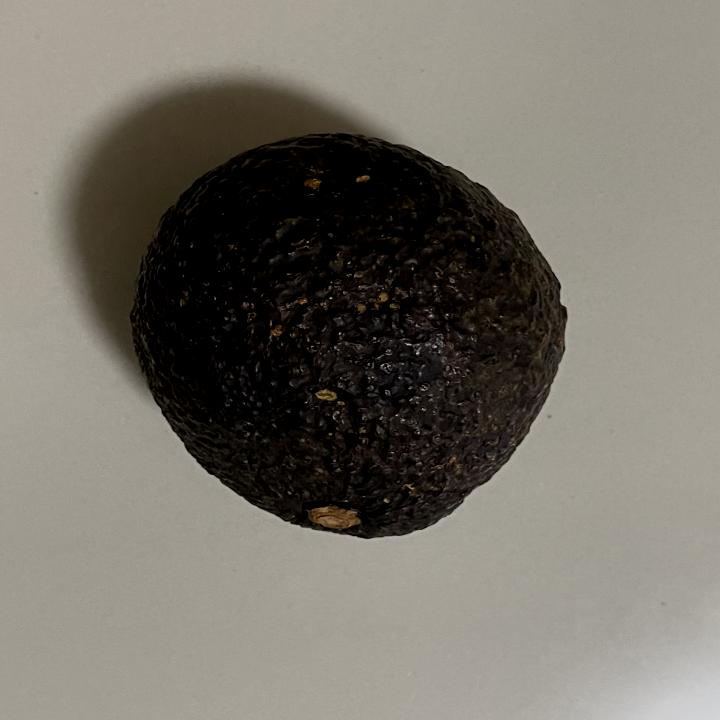Level3: (119, 126, 581, 552)
